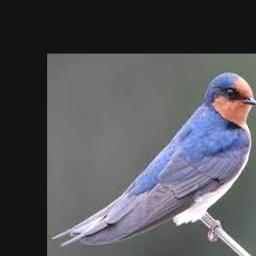Swallow: (52, 73, 256, 247)
